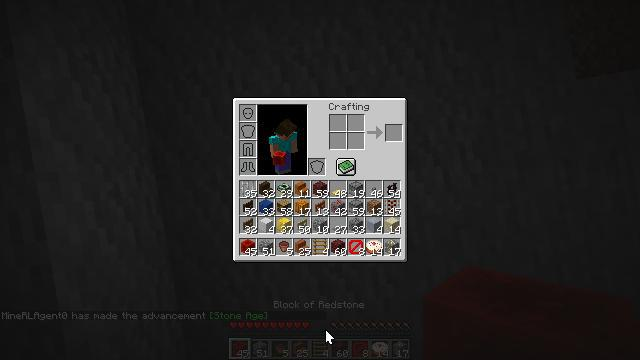cursor: (329, 325, 345, 335)
